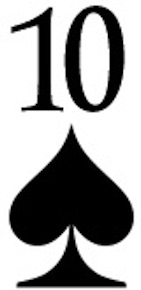TenOfSpades: (1, 3, 141, 289)
